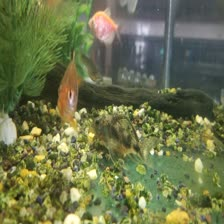Kiros: (86, 112, 155, 161)
Plano: (83, 6, 128, 48)
Transparente: (52, 51, 87, 127)
